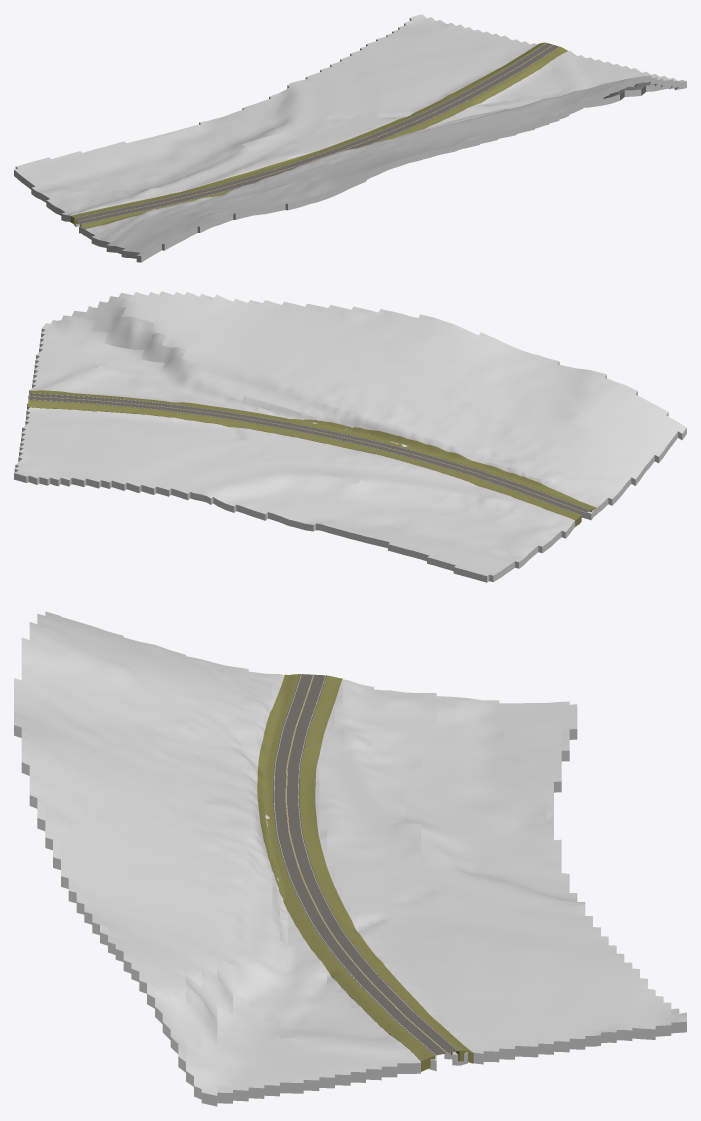
File: conz_44.glb
3 renders of one model, top to bottom at view 1: azimuth 30°, elevation 25°; view 2: azimuth 150°, elevation 25°; view 3: azimuth 270°, elevation 25°, orthographic. The views are drawn at different scales.
Visible parts, largest first — view 1: terrain44, road44, verge44L, verge44R, paint_yellow44; view 2: terrain44, road44, verge44L, verge44R, paint_yellow44; view 3: terrain44, road44, verge44R, verge44L, paint_white44, paint_yellow44.
Boxes of the visible parts, bbox=[...] form: terrain44: bbox=[14, 14, 686, 262]; road44: bbox=[75, 43, 559, 224]; verge44L: bbox=[70, 42, 546, 224]; verge44R: bbox=[80, 47, 567, 229]; paint_yellow44: bbox=[78, 44, 553, 221]; terrain44: bbox=[14, 291, 686, 582]; road44: bbox=[28, 393, 590, 515]; verge44L: bbox=[27, 400, 581, 526]; verge44R: bbox=[30, 390, 596, 511]; paint_yellow44: bbox=[29, 396, 585, 512]; terrain44: bbox=[14, 611, 686, 1106]; road44: bbox=[273, 674, 458, 1055]; verge44R: bbox=[257, 674, 435, 1071]; verge44L: bbox=[299, 675, 473, 1063]; paint_white44: bbox=[274, 674, 457, 1054]; paint_yellow44: bbox=[285, 674, 447, 1052].
Bounding box in the file's own units: 286 × 40.58 × 172.
